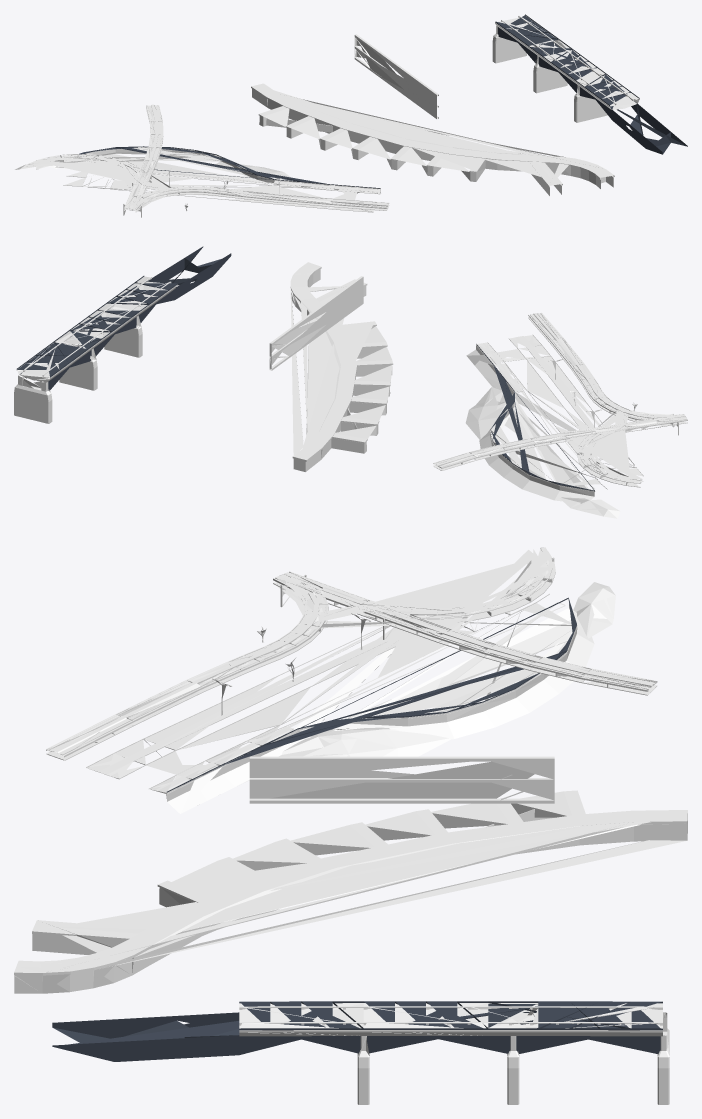
The model's file is street_island1_06.glb.
3 views of the same model, one above another, from view 1: azimuth 30°, elevation 25°; view 2: azimuth 150°, elevation 25°; view 3: azimuth 270°, elevation 25° (orthographic). The views are drawn at different scales.
Parts seen in each view (by area): view 1: seg_686, seg_690, seg_1105, seg_1357, seg_537, seg_1508, seg_1501, seg_533, seg_1068, seg_1506, seg_1088, seg_1087 (+6 smaller); view 2: seg_686, seg_690, seg_1105, seg_537, seg_1357, seg_673, seg_1508, seg_533, seg_1501, seg_532, seg_1068, seg_1506 (+6 smaller); view 3: seg_686, seg_690, seg_1357, seg_1105, seg_1501, seg_673, seg_537, seg_1508, seg_1506, seg_533, seg_1068, seg_1497 (+6 smaller).
Boxes of the visible parts, x1=… form: seg_686: x1=251, y1=83, x2=614, y2=195; seg_690: x1=55, y1=147, x2=380, y2=212; seg_1105: x1=26, y1=154, x2=191, y2=212; seg_1357: x1=354, y1=34, x2=438, y2=119; seg_537: x1=495, y1=15, x2=605, y2=93; seg_1508: x1=495, y1=14, x2=605, y2=80; seg_1501: x1=579, y1=86, x2=687, y2=154; seg_533: x1=574, y1=74, x2=639, y2=122; seg_1068: x1=191, y1=186, x2=389, y2=208; seg_1506: x1=79, y1=146, x2=380, y2=188; seg_1088: x1=191, y1=187, x2=389, y2=210; seg_1087: x1=117, y1=160, x2=191, y2=210; seg_686: x1=290, y1=262, x2=393, y2=471; seg_690: x1=466, y1=335, x2=643, y2=501; seg_1105: x1=563, y1=402, x2=687, y2=487; seg_537: x1=16, y1=303, x2=140, y2=390; seg_1357: x1=269, y1=276, x2=363, y2=370; seg_673: x1=465, y1=387, x2=620, y2=518; seg_1508: x1=16, y1=303, x2=139, y2=377; seg_533: x1=104, y1=276, x2=177, y2=357; seg_1501: x1=110, y1=246, x2=231, y2=322; seg_532: x1=14, y1=374, x2=52, y2=423; seg_1068: x1=528, y1=312, x2=612, y2=405; seg_1506: x1=476, y1=344, x2=594, y2=491; seg_686: x1=14, y1=790, x2=687, y2=993; seg_690: x1=86, y1=593, x2=594, y2=813; seg_1357: x1=249, y1=756, x2=554, y2=803; seg_1105: x1=273, y1=547, x2=555, y2=642; seg_1501: x1=52, y1=1012, x2=360, y2=1061; seg_673: x1=279, y1=582, x2=615, y2=756; seg_537: x1=363, y1=1003, x2=662, y2=1104; seg_1508: x1=363, y1=1001, x2=662, y2=1030; seg_1506: x1=166, y1=597, x2=576, y2=792; seg_533: x1=239, y1=1003, x2=369, y2=1104; seg_1068: x1=46, y1=632, x2=310, y2=757; seg_1497: x1=367, y1=1012, x2=660, y2=1053.
Bounding box in the file's own units: 422 × 68.78 × 251.
